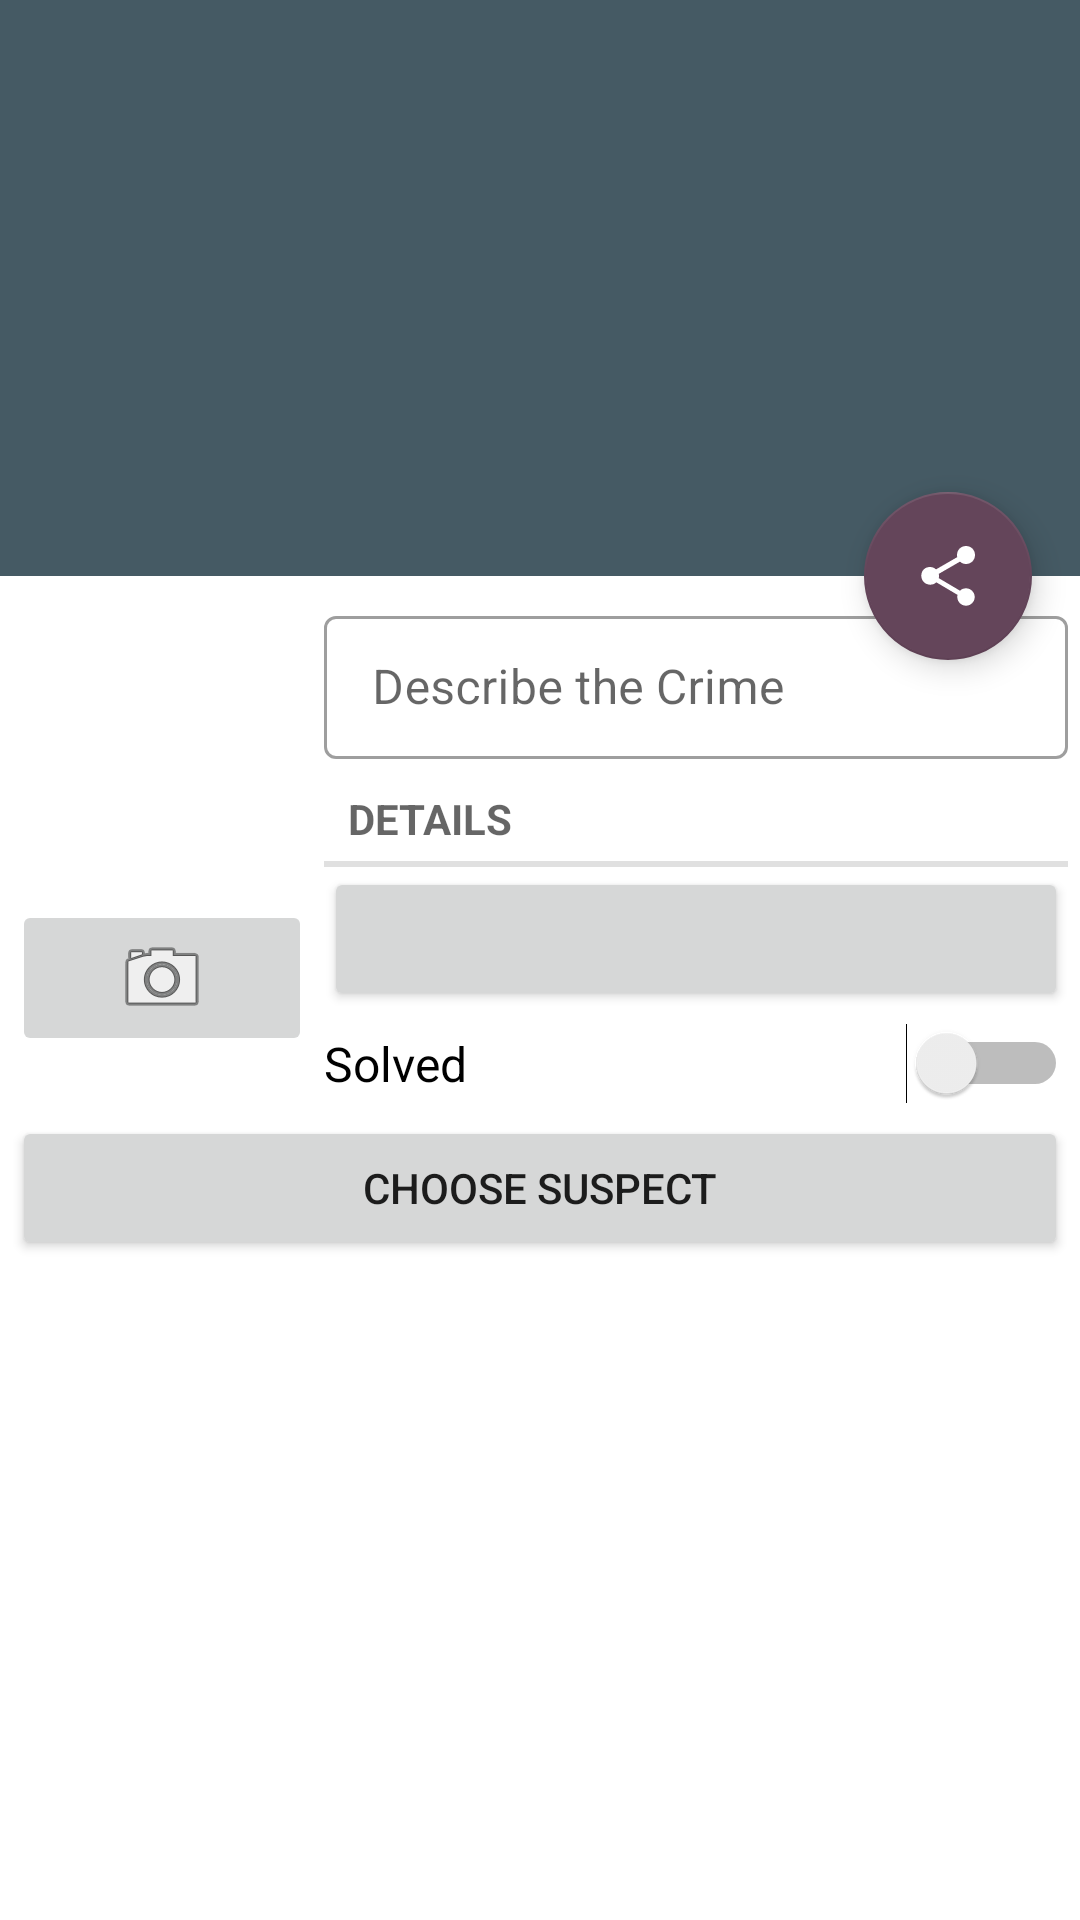

Screen size 1080×1920. Icon name, then its box in pixels as (x1, y1, x2, y2):
camera: (24, 918, 300, 1038)
